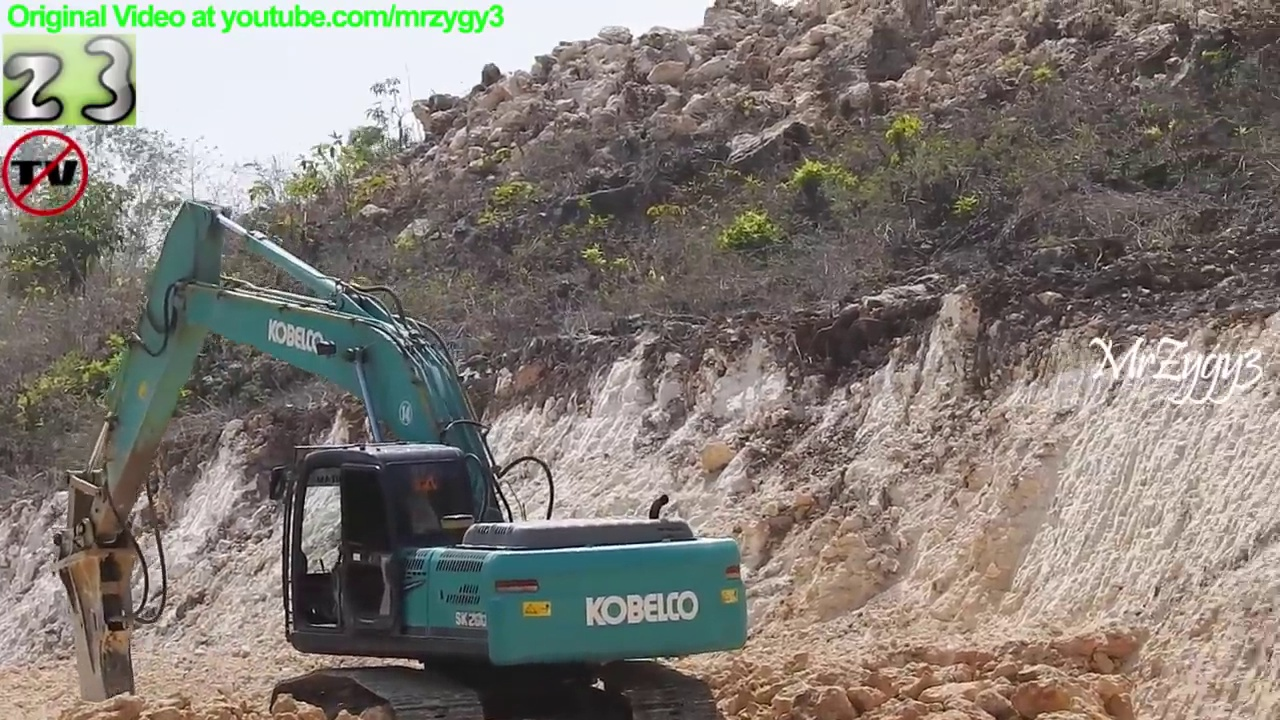excavator: (43, 196, 758, 720)
